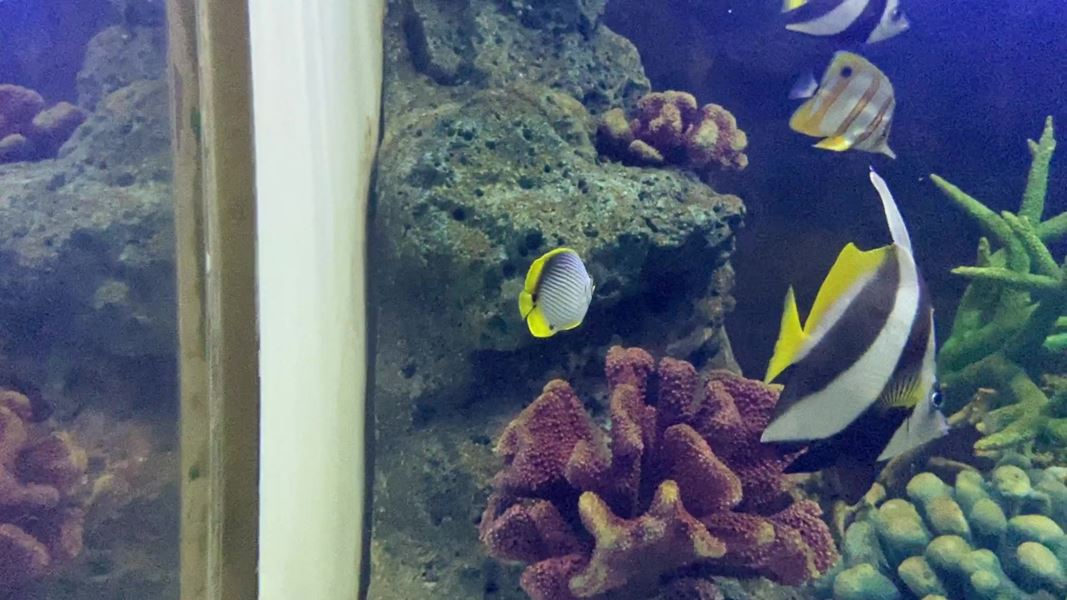Black-backed butterflyfish: (506, 240, 606, 347)
